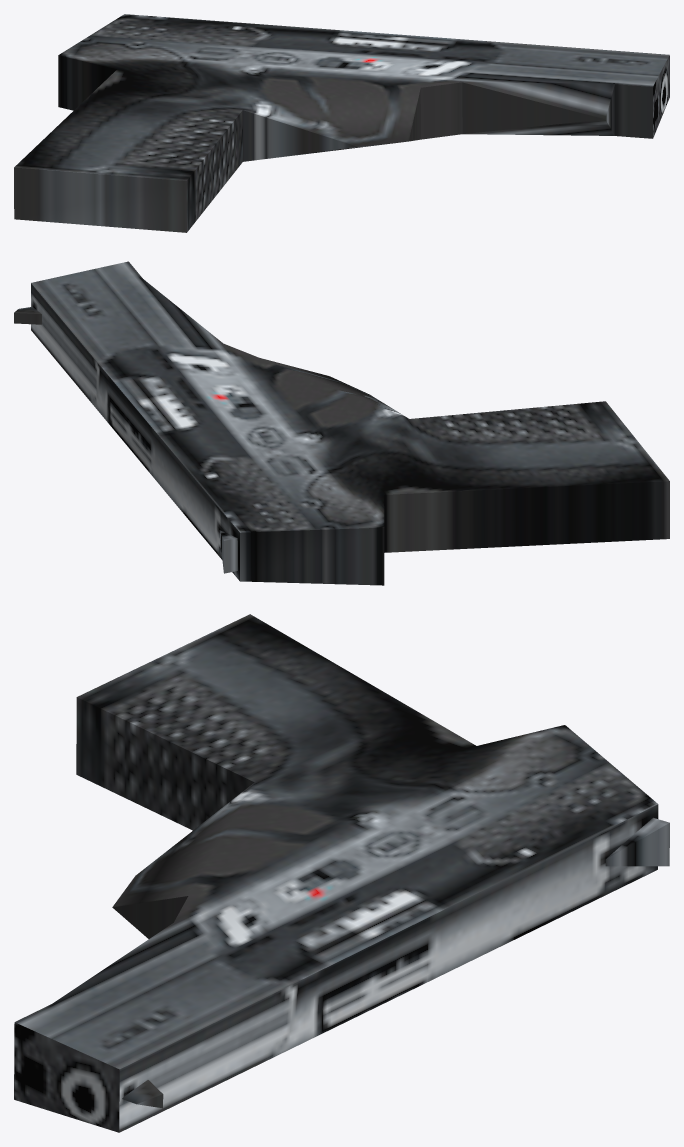
Rendered from fiveseven-drop.glb.
The picture shows the model from 3 angles, top to bottom: view 1: azimuth 30°, elevation 25°; view 2: azimuth 150°, elevation 25°; view 3: azimuth 270°, elevation 25°; orthographic projection. The views are drawn at different scales.
Parts seen in each view (by area): view 1: fiveseven dropped.001; view 2: fiveseven dropped.001; view 3: fiveseven dropped.001.
Part boxes in pixels (<box>): fiveseven dropped.001: <box>14,14,669,232</box>; fiveseven dropped.001: <box>14,261,669,585</box>; fiveseven dropped.001: <box>14,614,669,1132</box>.
Size of the model in its own units: 0.2221 by 0.0185 by 0.1361.
Materials: 1 (1 with a texture image).
